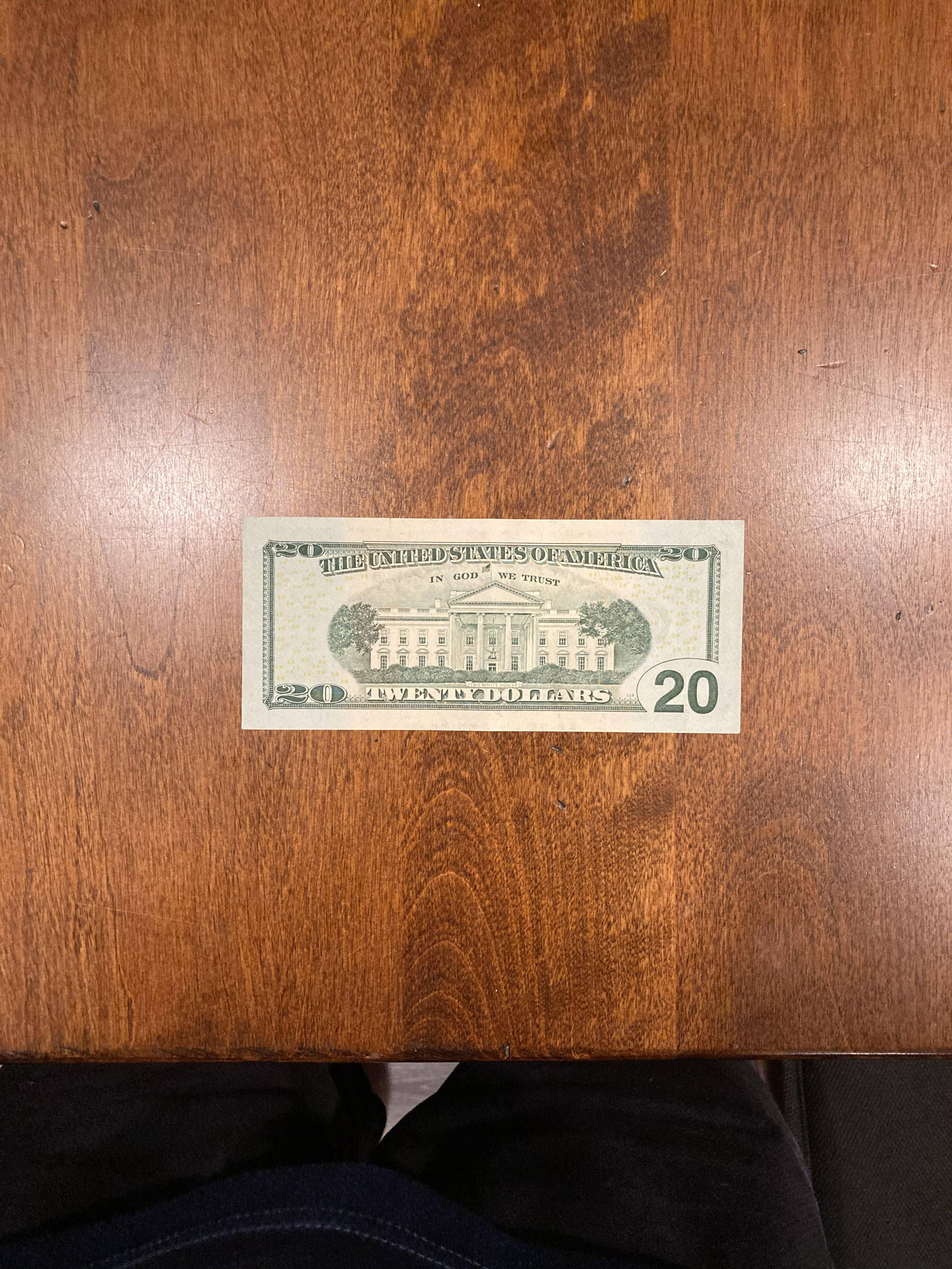twenty-back: (241, 519, 746, 732)
